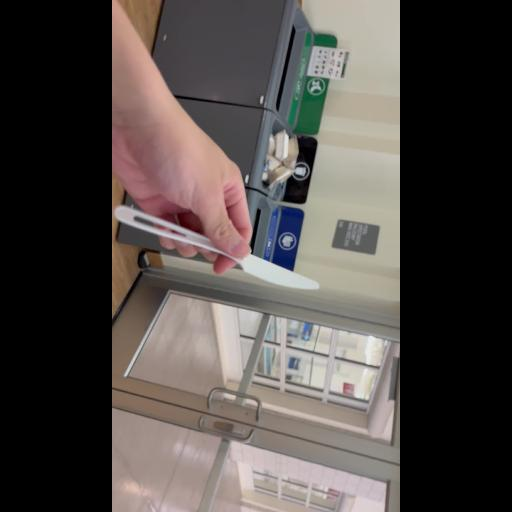utensil: (112, 181, 338, 325)
